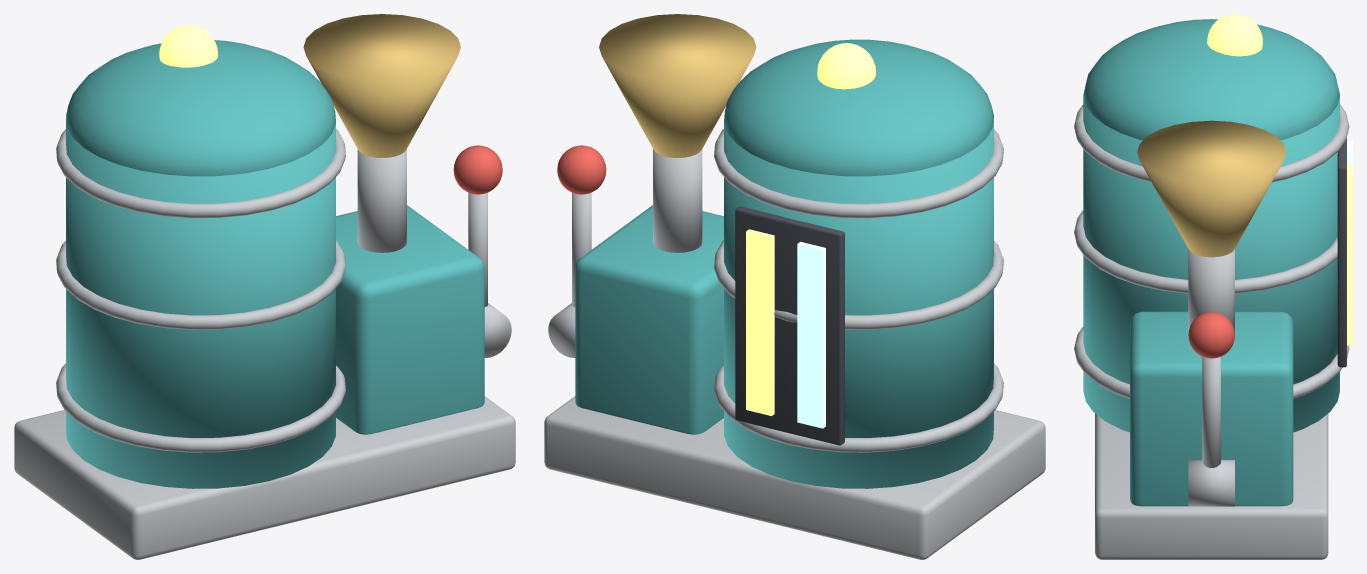
File: Bomba.fbx
The picture shows the model from 3 angles, left to right: view 1: azimuth 30°, elevation 25°; view 2: azimuth 150°, elevation 25°; view 3: azimuth 270°, elevation 25°; orthographic projection. The views are drawn at different scales.
Parts seen in each view (by area): view 1: Bomba, Palanca, Luz, PivotePalanca; view 2: Bomba, BarraTanque, BarraProgreso, Palanca, Luz, PivotePalanca; view 3: Bomba, Palanca, PivotePalanca, Luz, BarraTanque.
Boxes of the visible parts, x1=… form: Bomba: x1=14, y1=14, x2=515, y2=559; Palanca: x1=453, y1=145, x2=502, y2=306; Luz: x1=159, y1=25, x2=218, y2=67; PivotePalanca: x1=484, y1=303, x2=511, y2=357; Bomba: x1=544, y1=14, x2=1045, y2=559; BarraTanque: x1=746, y1=229, x2=774, y2=415; BarraProgreso: x1=797, y1=241, x2=825, y2=428; Palanca: x1=557, y1=145, x2=606, y2=306; Luz: x1=817, y1=43, x2=875, y2=89; PivotePalanca: x1=548, y1=303, x2=575, y2=357; Bomba: x1=1074, y1=19, x2=1349, y2=559; Palanca: x1=1188, y1=312, x2=1234, y2=467; PivotePalanca: x1=1188, y1=460, x2=1234, y2=506; Luz: x1=1207, y1=14, x2=1262, y2=56; BarraTanque: x1=1347, y1=164, x2=1352, y2=345.
Bounding box in the file's own units: 2 × 2.02 × 1.19.
